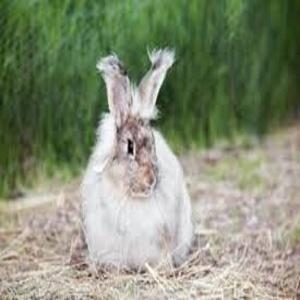rabbit: (80, 49, 195, 279)
